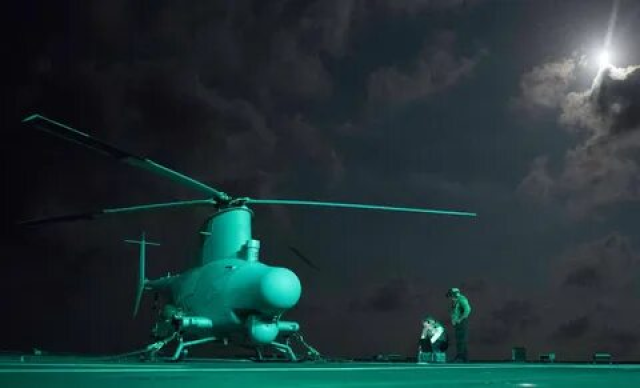military drone: (22, 114, 476, 364)
